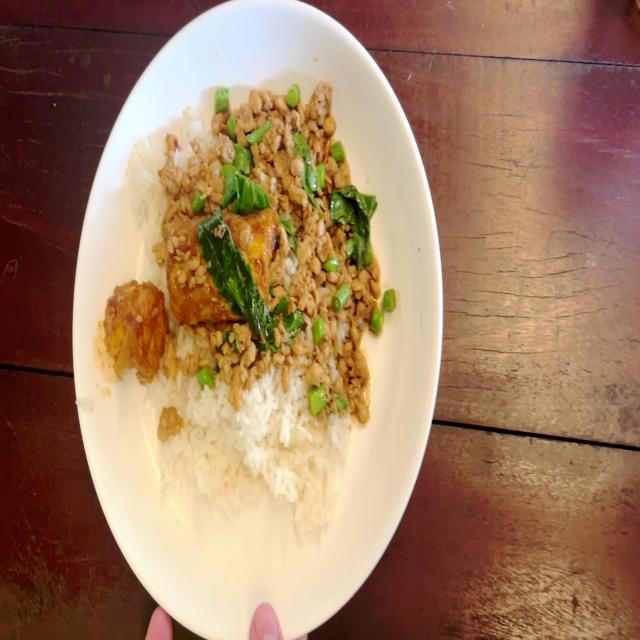fried_tofo: (169, 206, 276, 317), (109, 280, 165, 372)
minced_pork: (276, 73, 395, 324), (167, 323, 376, 411), (164, 81, 275, 208)
rice: (150, 381, 354, 532), (124, 124, 166, 243), (178, 100, 206, 150)
stir_fried_basil: (107, 80, 400, 545)
